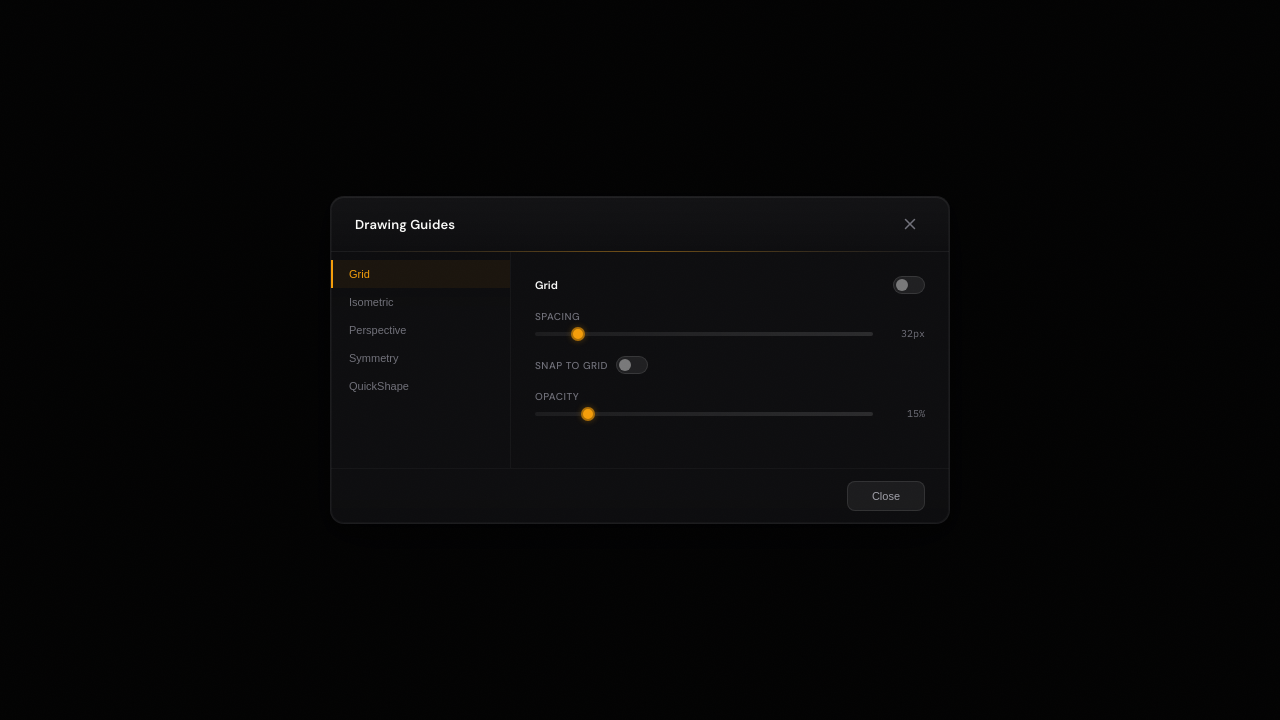
Test case: DrawingGuidesDialog › switches to QuickShape section
Click the button "QuickShape": (420, 386) [331,372,510,400]
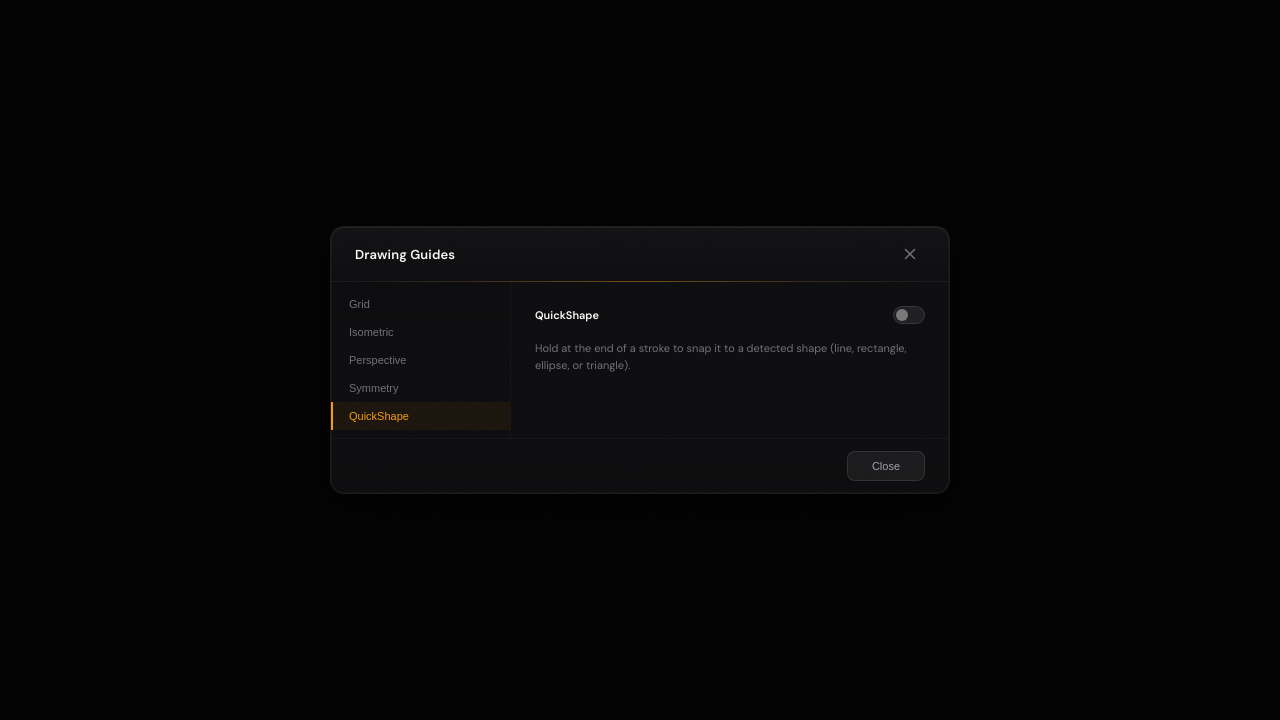
Result: the checkbox named "Enable QuickShape" is shown at [893,306,925,324]
